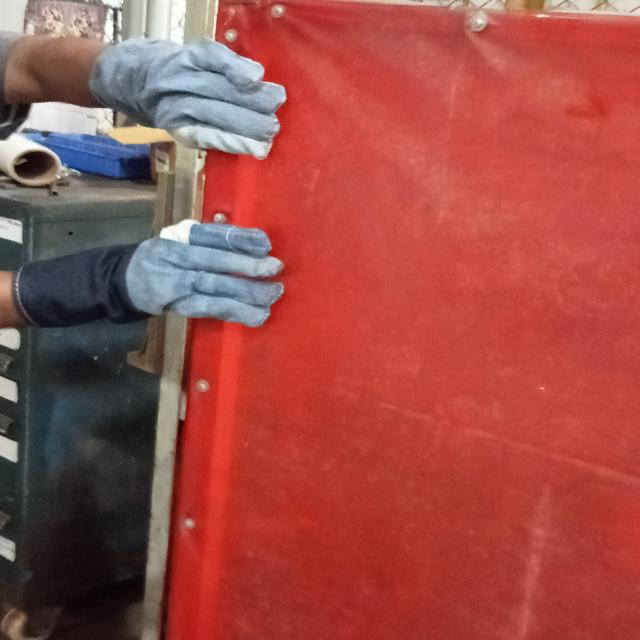Gloves-Detection: (17, 211, 284, 341), (92, 32, 281, 174)
